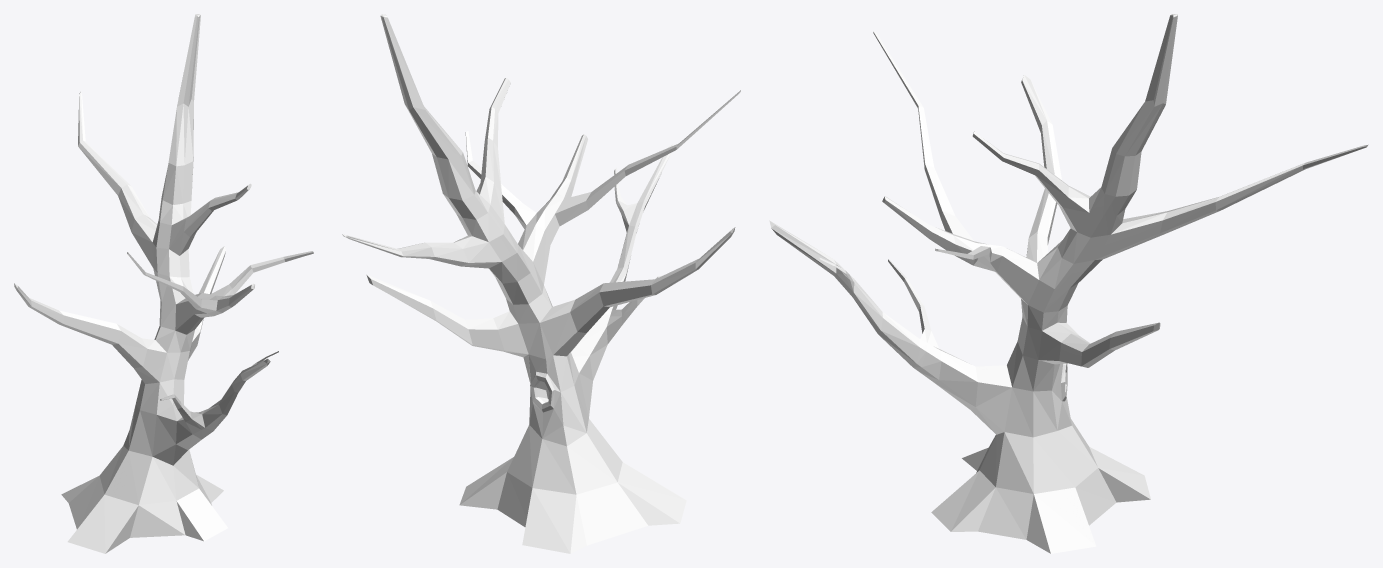
Rendered from Dead_tree_1.fbx.
3 renders of one model, left to right at view 1: azimuth 30°, elevation 25°; view 2: azimuth 150°, elevation 25°; view 3: azimuth 270°, elevation 25°, orthographic. The views are drawn at different scales.
Visible parts, largest first — view 1: DeadTree.001; view 2: DeadTree.001; view 3: DeadTree.001.
Boxes of the visible parts, bbox=[...] form: DeadTree.001: bbox=[14, 14, 313, 553]; DeadTree.001: bbox=[342, 14, 740, 553]; DeadTree.001: bbox=[769, 14, 1368, 553].
Size of the model in its own units: 13.64 by 21.38 by 20.98.
